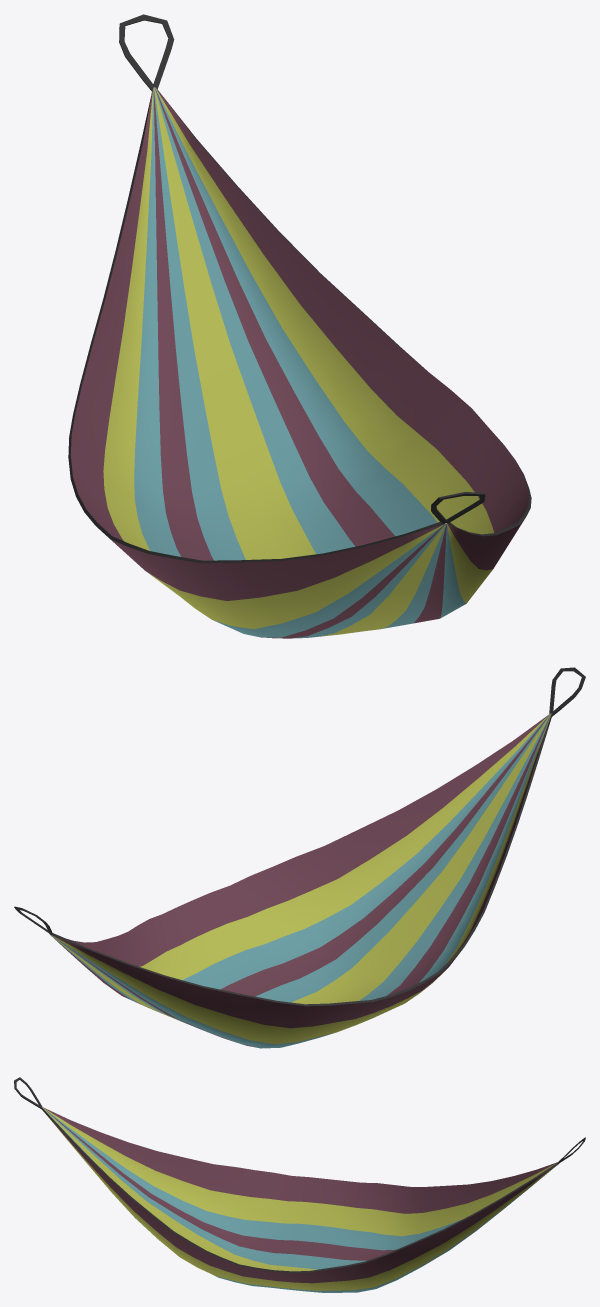
The model's file is Hammock.glb.
3 renders of one model, top to bottom at view 1: azimuth 30°, elevation 25°; view 2: azimuth 150°, elevation 25°; view 3: azimuth 270°, elevation 25°, orthographic. The views are drawn at different scales.
Parts seen in each view (by area): view 1: Plane004, Box003; view 2: Plane004, Box004; view 3: Plane004.
Boxes of the visible parts, x1,y1,x2,y2 form: Plane004: (68, 87, 531, 638); Box003: (119, 14, 174, 91); Plane004: (49, 713, 551, 1048); Box004: (549, 667, 585, 716); Plane004: (41, 1107, 559, 1292).
Size of the model in its own units: 218279 by 178072 by 542716.
